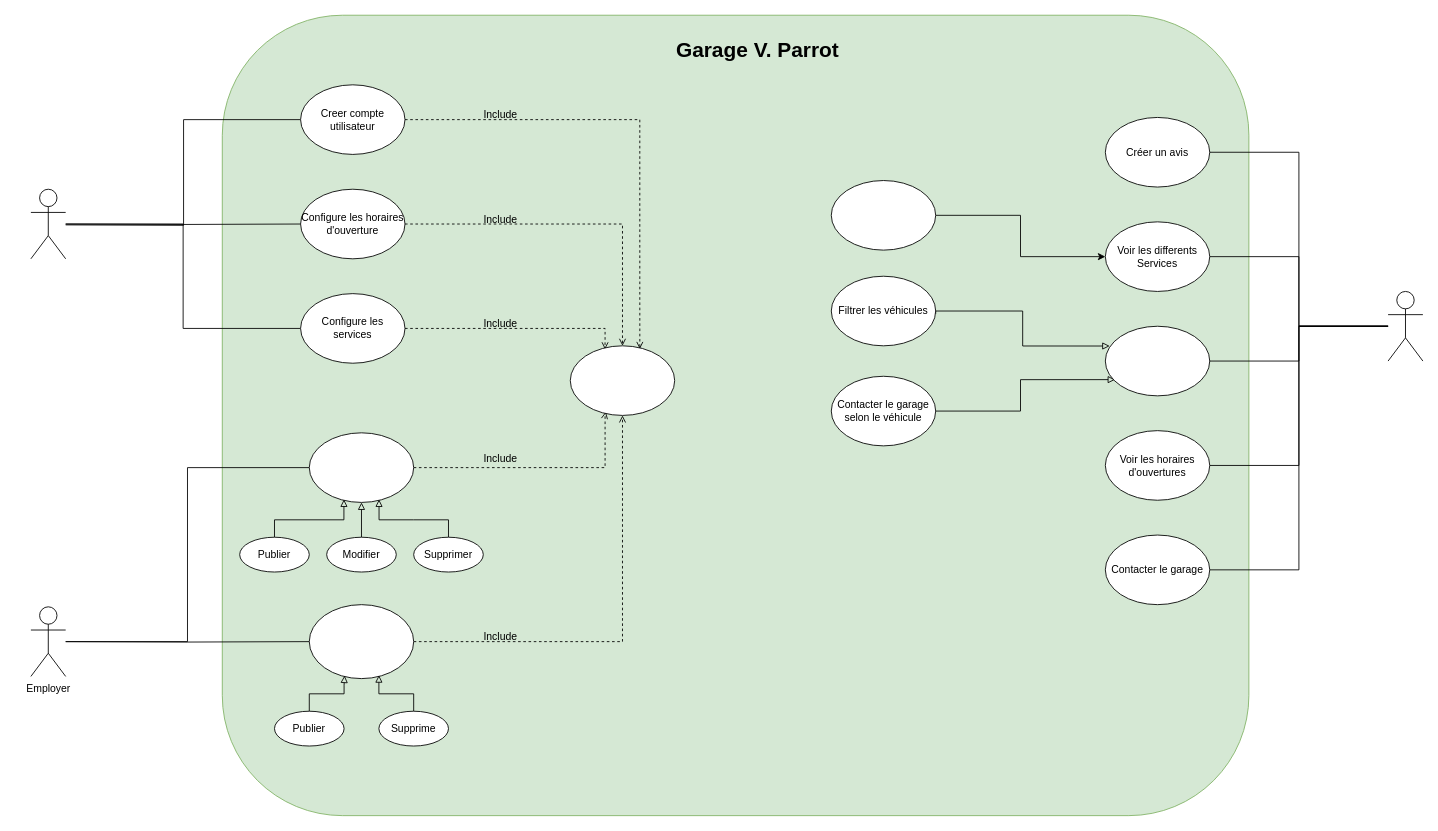
This 1438x831 diagram has some shape labels left out. Each missing label, with the centre of its shape:
Administrateur: [48,223]
Contacter le garage selon le Service: [883,215]
Mis en ligne des annonces: [361,467]
Moderation des avis: [361,641]
Se connecter: [622,380]
Visiteur: [1405,326]
Voir les Véhicules d'occasion: [1157,360]
